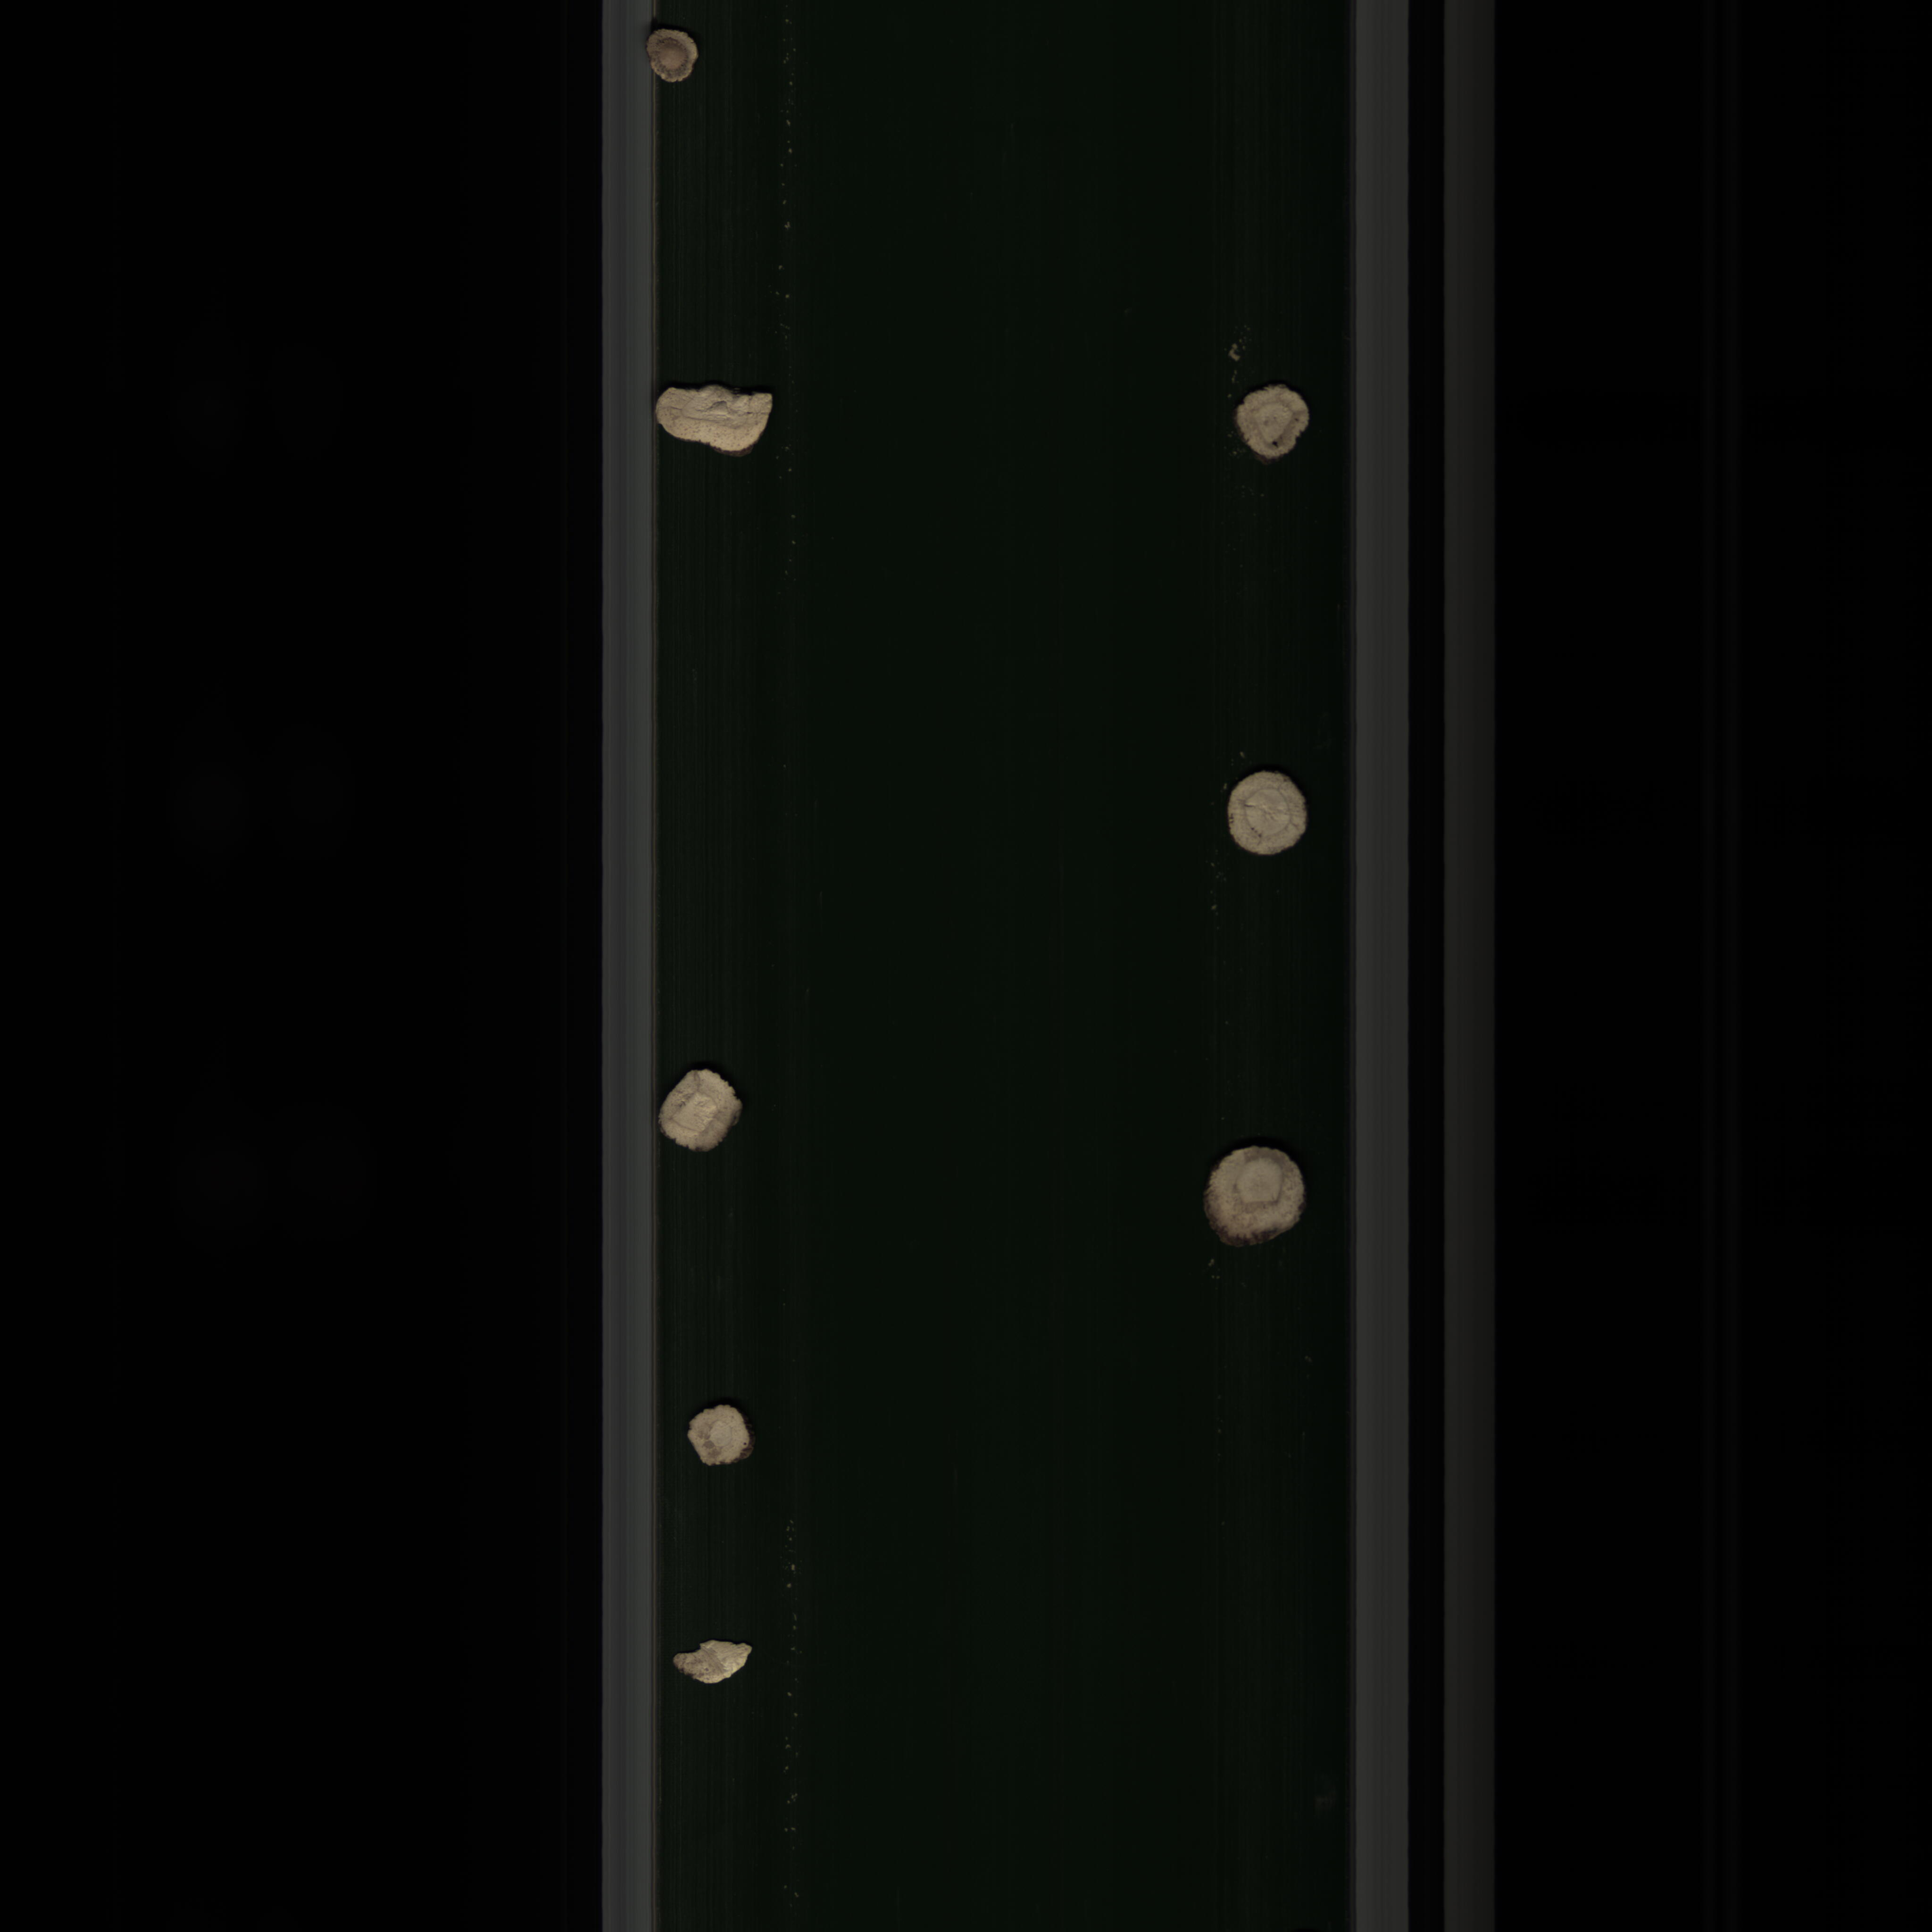debris: (651, 370, 771, 464), (662, 1638, 770, 1691)
moldy: (644, 25, 711, 96)
